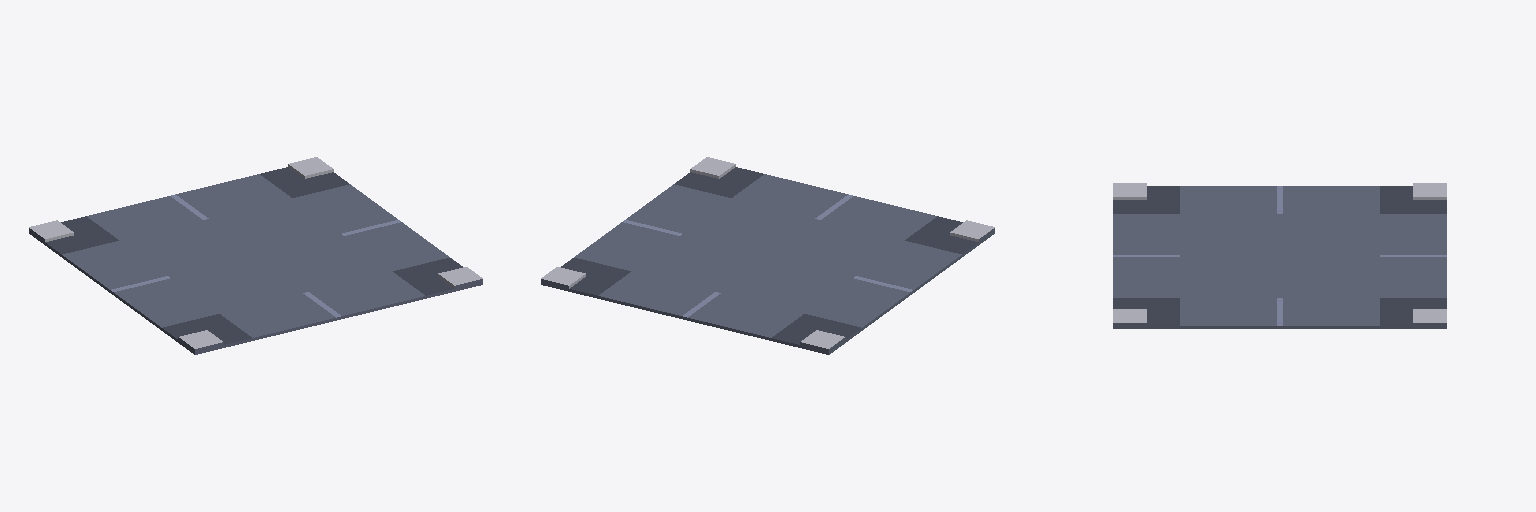
File: road_crossroad.obj
3 renders of one model, left to right at view 1: azimuth 30°, elevation 25°; view 2: azimuth 150°, elevation 25°; view 3: azimuth 270°, elevation 25°, orthographic.
Parts seen in each view (by area): view 1: road_crossroad; view 2: road_crossroad; view 3: road_crossroad.
Part boxes in pixels (bbox=[...]): road_crossroad: bbox=[29, 157, 482, 354]; road_crossroad: bbox=[541, 157, 994, 354]; road_crossroad: bbox=[1113, 183, 1446, 328].
Bounding box in the file's own units: 1 × 0.02 × 1.